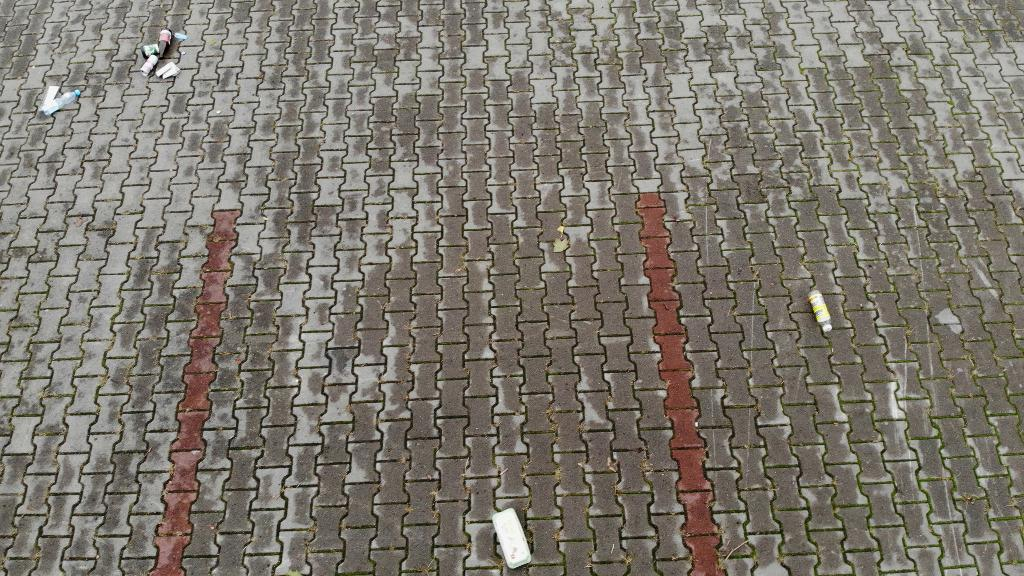garbage: (807, 288, 835, 333), (41, 89, 81, 116), (155, 58, 182, 82)
